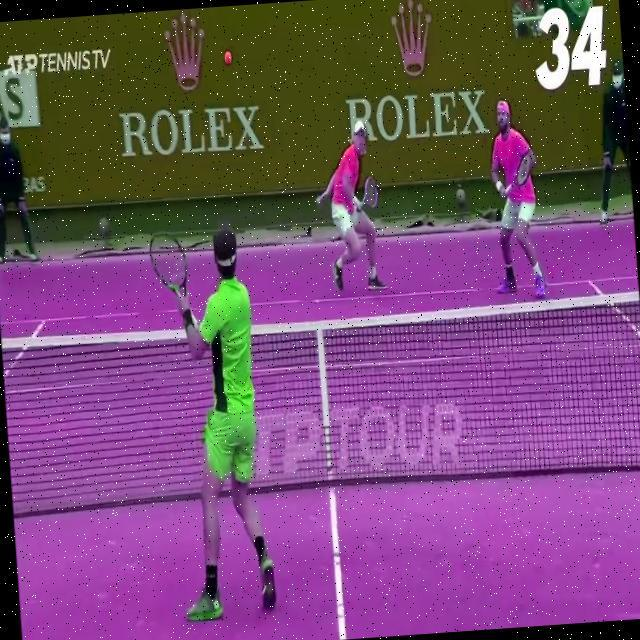player: (147, 222, 280, 625)
